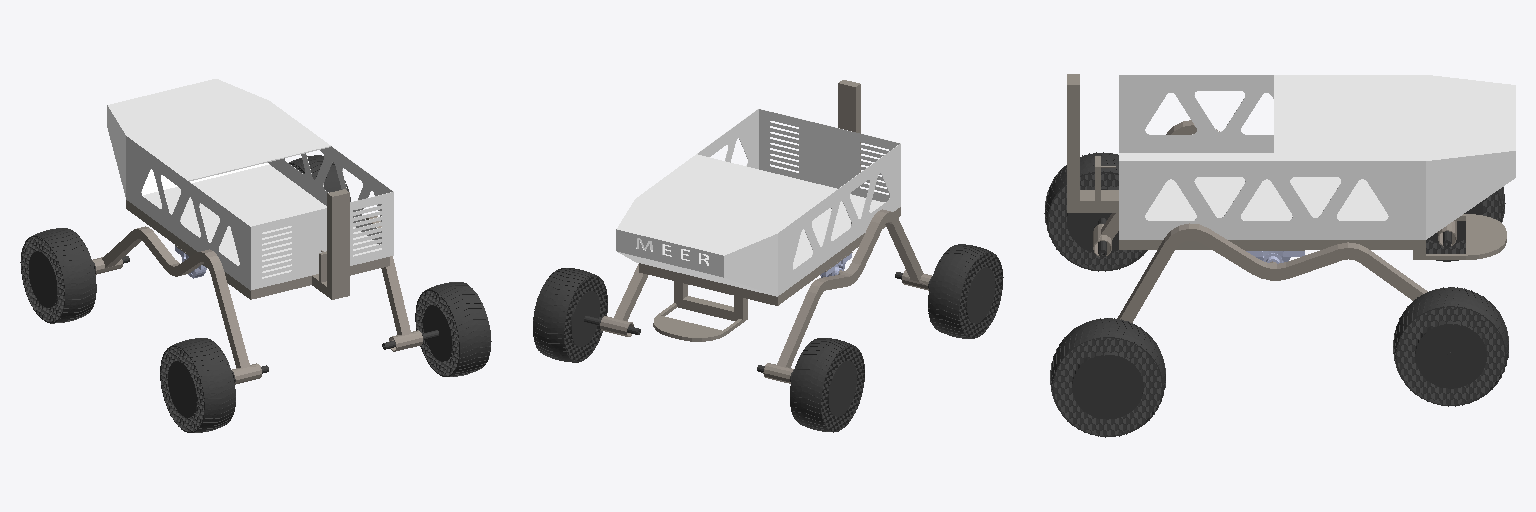
robot.urdf — sharkassm:
<?xml version="1.0" encoding="utf-8"?>
<!-- This URDF was automatically created by SolidWorks to URDF Exporter! Originally created by Stephen Brawner (brawner@gmail.com) 
     Commit Version: 1.6.0-4-g7f85cfe  Build Version: 1.6.7995.38578
     For more information, please see http://wiki.ros.org/sw_urdf_exporter -->
<robot
  name="sharkassm">
  <link
    name="base_link">
    <inertial>
      <origin
        xyz="-0.00507999999999972 -0.00218673701140832 -0.00451136686361187"
        rpy="0 0 0" />
      <mass
        value="2.77876767890177" />
      <inertia
        ixx="0.196732233981072"
        ixy="-6.34345668102311E-17"
        ixz="-7.59802215963108E-18"
        iyy="0.0501885895971884"
        iyz="0.0260713191840361"
        izz="0.227774902348467" />
    </inertial>
    <visual>
      <origin
        xyz="0 0 0"
        rpy="0 0 0" />
      <geometry>
        <mesh
          filename="package://sharkassm/meshes/base_link.STL" />
      </geometry>
      <material
        name="">
        <color
          rgba="0.647058823529412 0.619607843137255 0.588235294117647 1" />
      </material>
    </visual>
    <collision>
      <origin
        xyz="0 0 0"
        rpy="0 0 0" />
      <geometry>
        <mesh
          filename="package://sharkassm/meshes/base_link.STL" />
      </geometry>
    </collision>
  </link>
  <link
    name="left_bearing">
    <inertial>
      <origin
        xyz="0.0381257986448909 -4.09735104873188E-05 0.00793222454703724"
        rpy="0 0 0" />
      <mass
        value="0.103228679937265" />
      <inertia
        ixx="0.000119048427929717"
        ixy="1.63845946925349E-08"
        ixz="-6.27306210617309E-07"
        iyy="3.94984540603498E-05"
        iyz="-1.11513588884461E-07"
        izz="0.000100286812792574" />
    </inertial>
    <visual>
      <origin
        xyz="0 0 0"
        rpy="0 0 0" />
      <geometry>
        <mesh
          filename="package://sharkassm/meshes/left_bearing.STL" />
      </geometry>
      <material
        name="">
        <color
          rgba="0.792156862745098 0.819607843137255 0.933333333333333 1" />
      </material>
    </visual>
    <collision>
      <origin
        xyz="0 0 0"
        rpy="0 0 0" />
      <geometry>
        <mesh
          filename="package://sharkassm/meshes/left_bearing.STL" />
      </geometry>
    </collision>
  </link>
  <joint
    name="LBRING"
    type="fixed">
    <origin
      xyz="-0.22372825352472 0.00150000000000005 -0.0586"
      rpy="0 0 0" />
    <parent
      link="base_link" />
    <child
      link="left_bearing" />
    <axis
      xyz="0 0 0" />
  </joint>
  <link
    name="Left_rocker">
    <inertial>
      <origin
        xyz="-0.00746260673077952 -0.0184660582533997 -0.0064676880301458"
        rpy="0 0 0" />
      <mass
        value="4.92154306961454" />
      <inertia
        ixx="0.231464404649212"
        ixy="-0.000475982161739429"
        ixz="-0.00016671149239322"
        iyy="0.0228272217507368"
        iyz="0.00831341529835217"
        izz="0.214717032111287" />
    </inertial>
    <visual>
      <origin
        xyz="0 0 0"
        rpy="0 0 0" />
      <geometry>
        <mesh
          filename="package://sharkassm/meshes/Left_rocker.STL" />
      </geometry>
      <material
        name="">
        <color
          rgba="0.650980392156863 0.619607843137255 0.588235294117647 1" />
      </material>
    </visual>
    <collision>
      <origin
        xyz="0 0 0"
        rpy="0 0 0" />
      <geometry>
        <mesh
          filename="package://sharkassm/meshes/Left_rocker.STL" />
      </geometry>
    </collision>
  </link>
  <joint
    name="leftrocker"
    type="continuous">
    <origin
      xyz="0 0 0"
      rpy="0 0 0" />
    <parent
      link="left_bearing" />
    <child
      link="Left_rocker" />
    <axis
      xyz="1 0 0" />
  </joint>
  <link
    name="FLW">
    <inertial>
      <origin
        xyz="0.046819 3.5758E-05 -2.0928E-06"
        rpy="0 0 0" />
      <mass
        value="1.9116" />
      <inertia
        ixx="0.0081425"
        ixy="3.124E-07"
        ixz="-1.5506E-07"
        iyy="0.005538"
        iyz="5.3598E-06"
        izz="0.005536" />
    </inertial>
    <visual>
      <origin
        xyz="0 0 0"
        rpy="0 0 0" />
      <geometry>
        <mesh
          filename="package://sharkassm/meshes/FLW.STL" />
      </geometry>
      <material
        name="">
        <color
          rgba="0.29804 0.29804 0.29804 1" />
      </material>
    </visual>
    <collision>
      <origin
        xyz="0 0 0"
        rpy="0 0 0" />
      <geometry>
        <mesh
          filename="package://sharkassm/meshes/FLW.STL" />
      </geometry>
    </collision>
  </link>
  <joint
    name="front_left_wheel"
    type="continuous">
    <origin
      xyz="-0.1908 0.34597 -0.12589"
      rpy="0 0 0" />
    <parent
      link="Left_rocker" />
    <child
      link="FLW" />
    <axis
      xyz="1 0 0" />
    <limit
      effort="10"
      velocity="10" />
    <dynamics
      damping="0.1"
      friction="0.1" />
  </joint>
  <link
    name="BLW">
    <inertial>
      <origin
        xyz="0.046819 3.5758E-05 -2.0928E-06"
        rpy="0 0 0" />
      <mass
        value="1.9116" />
      <inertia
        ixx="0.0081425"
        ixy="3.124E-07"
        ixz="-1.5506E-07"
        iyy="0.005538"
        iyz="5.3598E-06"
        izz="0.005536" />
    </inertial>
    <visual>
      <origin
        xyz="0 0 0"
        rpy="0 0 0" />
      <geometry>
        <mesh
          filename="package://sharkassm/meshes/BLW.STL" />
      </geometry>
      <material
        name="">
        <color
          rgba="0.29804 0.29804 0.29804 1" />
      </material>
    </visual>
    <collision>
      <origin
        xyz="0 0 0"
        rpy="0 0 0" />
      <geometry>
        <mesh
          filename="package://sharkassm/meshes/BLW.STL" />
      </geometry>
    </collision>
  </link>
  <joint
    name="back_left_wheel"
    type="continuous">
    <origin
      xyz="-0.1908 -0.33792 -0.14727"
      rpy="0 0 0" />
    <parent
      link="Left_rocker" />
    <child
      link="BLW" />
    <axis
      xyz="1 0 0" />
    <limit
      effort="10"
      velocity="10" />
    <dynamics
      damping="0.1"
      friction="0.1" />
  </joint>
  <link
    name="right_bearing">
    <inertial>
      <origin
        xyz="-0.0375975451201709 4.09735104872841E-05 0.00793222454703721"
        rpy="0 0 0" />
      <mass
        value="0.103228679937266" />
      <inertia
        ixx="0.000119048427929717"
        ixy="1.63845946925091E-08"
        ixz="6.2730621061735E-07"
        iyy="3.94984540603496E-05"
        iyz="1.11513588884486E-07"
        izz="0.000100286812792573" />
    </inertial>
    <visual>
      <origin
        xyz="0 0 0"
        rpy="0 0 0" />
      <geometry>
        <mesh
          filename="package://sharkassm/meshes/right_bearing.STL" />
      </geometry>
      <material
        name="">
        <color
          rgba="0.792156862745098 0.819607843137255 0.933333333333333 1" />
      </material>
    </visual>
    <collision>
      <origin
        xyz="0 0 0"
        rpy="0 0 0" />
      <geometry>
        <mesh
          filename="package://sharkassm/meshes/right_bearing.STL" />
      </geometry>
    </collision>
  </link>
  <joint
    name="RBRING"
    type="fixed">
    <origin
      xyz="0.213040000000001 0.00149999999999999 -0.0586"
      rpy="0 0 0" />
    <parent
      link="base_link" />
    <child
      link="right_bearing" />
    <axis
      xyz="0 0 0" />
  </joint>
  <link
    name="right_rocker">
    <inertial>
      <origin
        xyz="0.00746260673077948 -0.0179855661205003 -0.00770361650125294"
        rpy="0 0 0" />
      <mass
        value="4.92154306961454" />
      <inertia
        ixx="0.231464404649212"
        ixy="0.000463596969351396"
        ixz="0.000198568854552494"
        iyy="0.0225839777700811"
        iyz="-0.00473050366973788"
        izz="0.214960276091944" />
    </inertial>
    <visual>
      <origin
        xyz="0 0 0"
        rpy="0 0 0" />
      <geometry>
        <mesh
          filename="package://sharkassm/meshes/right_rocker.STL" />
      </geometry>
      <material
        name="">
        <color
          rgba="0.650980392156863 0.619607843137255 0.588235294117647 1" />
      </material>
    </visual>
    <collision>
      <origin
        xyz="0 0 0"
        rpy="0 0 0" />
      <geometry>
        <mesh
          filename="package://sharkassm/meshes/right_rocker.STL" />
      </geometry>
    </collision>
  </link>
  <joint
    name="rightrcker"
    type="continuous">
    <origin
      xyz="0 0 0"
      rpy="0 0 0" />
    <parent
      link="right_bearing" />
    <child
      link="right_rocker" />
    <axis
      xyz="-1 0 0" />
  </joint>
  <link
    name="FRW">
    <inertial>
      <origin
        xyz="-0.046819 -3.582E-05 -2.1026E-06"
        rpy="0 0 0" />
      <mass
        value="1.9116" />
      <inertia
        ixx="0.0081425"
        ixy="2.9499E-07"
        ixz="1.5086E-07"
        iyy="0.005538"
        iyz="-5.3605E-06"
        izz="0.005536" />
    </inertial>
    <visual>
      <origin
        xyz="0 0 0"
        rpy="0 0 0" />
      <geometry>
        <mesh
          filename="package://sharkassm/meshes/FRW.STL" />
      </geometry>
      <material
        name="">
        <color
          rgba="0.29804 0.29804 0.29804 1" />
      </material>
    </visual>
    <collision>
      <origin
        xyz="0 0 0"
        rpy="0 0 0" />
      <geometry>
        <mesh
          filename="package://sharkassm/meshes/FRW.STL" />
      </geometry>
    </collision>
  </link>
  <joint
    name="front_right_wheel"
    type="continuous">
    <origin
      xyz="0.1908 0.3537 -0.10217"
      rpy="0 0 0" />
    <parent
      link="right_rocker" />
    <child
      link="FRW" />
    <axis
      xyz="-1 0 0" />
    <limit
      effort="10"
      velocity="10" />
    <dynamics
      damping="0.1"
      friction="0.1" />
  </joint>
  <link
    name="BRW">
    <inertial>
      <origin
        xyz="-0.046819 -3.582E-05 -2.1026E-06"
        rpy="0 0 0" />
      <mass
        value="1.9116" />
      <inertia
        ixx="0.0081425"
        ixy="2.9499E-07"
        ixz="1.5086E-07"
        iyy="0.005538"
        iyz="-5.3605E-06"
        izz="0.005536" />
    </inertial>
    <visual>
      <origin
        xyz="0 0 0"
        rpy="0 0 0" />
      <geometry>
        <mesh
          filename="package://sharkassm/meshes/BRW.STL" />
      </geometry>
      <material
        name="">
        <color
          rgba="0.29804 0.29804 0.29804 1" />
      </material>
    </visual>
    <collision>
      <origin
        xyz="0 0 0"
        rpy="0 0 0" />
      <geometry>
        <mesh
          filename="package://sharkassm/meshes/BRW.STL" />
      </geometry>
    </collision>
  </link>
  <joint
    name="Back_right_wheel"
    type="continuous">
    <origin
      xyz="0.1908 -0.32717 -0.16982"
      rpy="0 0 0" />
    <parent
      link="right_rocker" />
    <child
      link="BRW" />
    <axis
      xyz="-1 0 0" />
    <limit
      effort="10"
      velocity="10" />
    <dynamics
      damping="0.1"
      friction="0.1" />
  </joint>
  <link
    name="enclsr">
    <inertial>
      <origin
        xyz="0 0 0"
        rpy="0 0 0" />
      <mass
        value="0" />
      <inertia
        ixx="0"
        ixy="0"
        ixz="0"
        iyy="0"
        iyz="0"
        izz="0" />
    </inertial>
    <visual>
      <origin
        xyz="0 0 0"
        rpy="0 0 0" />
      <geometry>
        <mesh
          filename="package://sharkassm/meshes/enclsr.STL" />
      </geometry>
      <material
        name="">
        <color
          rgba="1 1 1 1" />
      </material>
    </visual>
    <collision>
      <origin
        xyz="0 0 0"
        rpy="0 0 0" />
      <geometry>
        <mesh
          filename="package://sharkassm/meshes/enclsr.STL" />
      </geometry>
    </collision>
  </link>
  <joint
    name="enclsr"
    type="fixed">
    <origin
      xyz="0 0 0"
      rpy="0 0 0" />
    <parent
      link="base_link" />
    <child
      link="enclsr" />
    <axis
      xyz="0 0 0" />
  </joint>
</robot>

--- Render facts (derived) ---
The picture shows the robot from 3 angles, left to right: view 1: azimuth 30°, elevation 25°; view 2: azimuth 150°, elevation 25°; view 3: azimuth 270°, elevation 25°; orthographic projection.
Model sharkassm with 10 links and 9 joints (6 continuous, 3 fixed), rooted at base_link, posed all joints at 0.
Visible links, largest first — view 1: enclsr, FLW, BLW, BRW, base_link, Left_rocker, right_rocker, FRW; view 2: enclsr, base_link, BLW, FLW, FRW, Left_rocker, right_rocker; view 3: enclsr, FRW, BRW, base_link, right_rocker, BLW, FLW, Left_rocker.
Link boxes in pixels (x1=…): enclsr: x1=107, y1=79, x2=393, y2=290; FLW: x1=20, y1=228, x2=129, y2=323; BLW: x1=160, y1=338, x2=268, y2=432; BRW: x1=382, y1=282, x2=491, y2=376; base_link: x1=126, y1=189, x2=389, y2=299; Left_rocker: x1=92, y1=226, x2=261, y2=384; right_rocker: x1=366, y1=216, x2=422, y2=351; FRW: x1=289, y1=155, x2=350, y2=201; enclsr: x1=616, y1=109, x2=900, y2=296; base_link: x1=639, y1=80, x2=900, y2=341; BLW: x1=895, y1=244, x2=1003, y2=338; FLW: x1=757, y1=338, x2=864, y2=432; FRW: x1=533, y1=268, x2=640, y2=362; Left_rocker: x1=763, y1=209, x2=931, y2=383; right_rocker: x1=600, y1=264, x2=647, y2=336; enclsr: x1=1119, y1=75, x2=1515, y2=239; FRW: x1=1393, y1=287, x2=1508, y2=406; BRW: x1=1050, y1=318, x2=1165, y2=437; base_link: x1=1067, y1=74, x2=1506, y2=259; right_rocker: x1=1117, y1=223, x2=1427, y2=322; BLW: x1=1044, y1=152, x2=1147, y2=271; FLW: x1=1426, y1=187, x2=1505, y2=261; Left_rocker: x1=1093, y1=120, x2=1456, y2=256.
Size in the robot's own frame: 0.8184 by 0.9347 by 0.598 metres.
Meshes: 10 distinct files referenced, 10 mesh visuals loaded (10 binary STL).
